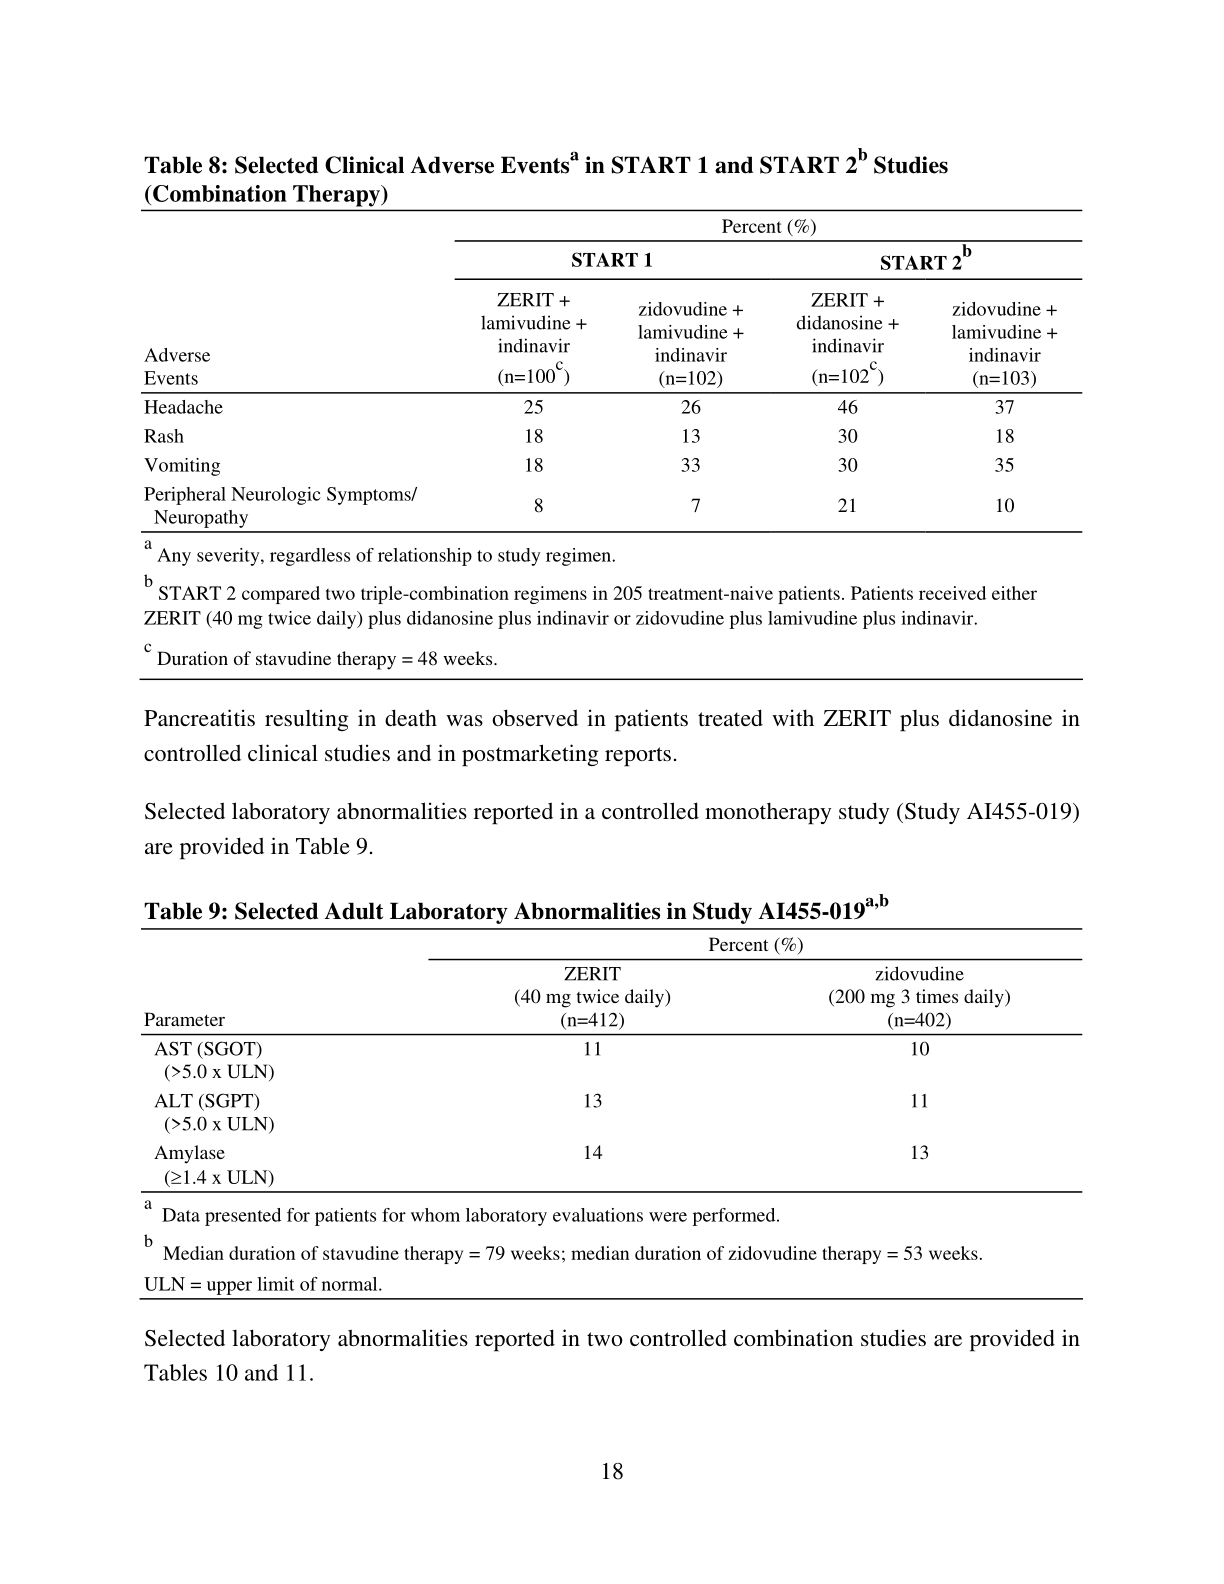partial_lined_merged_cells: (139, 208, 1083, 534), (140, 927, 1083, 1194)
